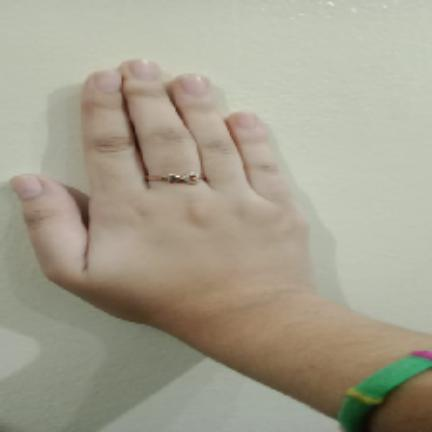Nail: (11, 174, 43, 200), (129, 60, 161, 81), (180, 73, 208, 96), (94, 71, 121, 93), (237, 114, 257, 129)
